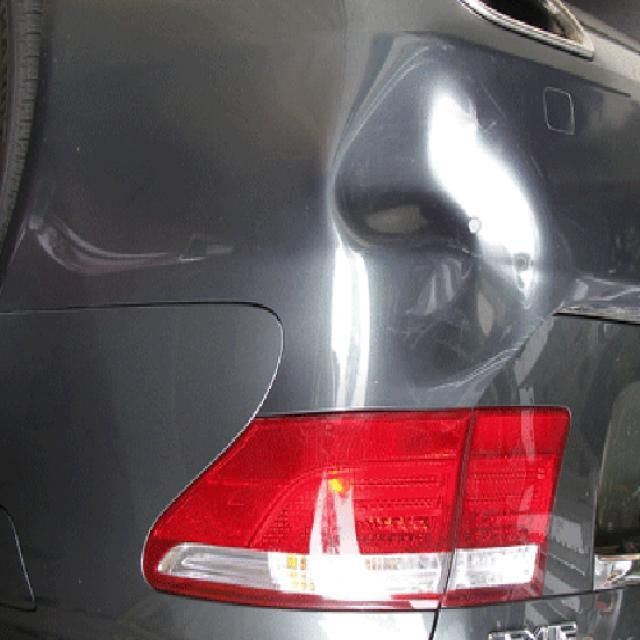dent: (317, 16, 601, 427)
